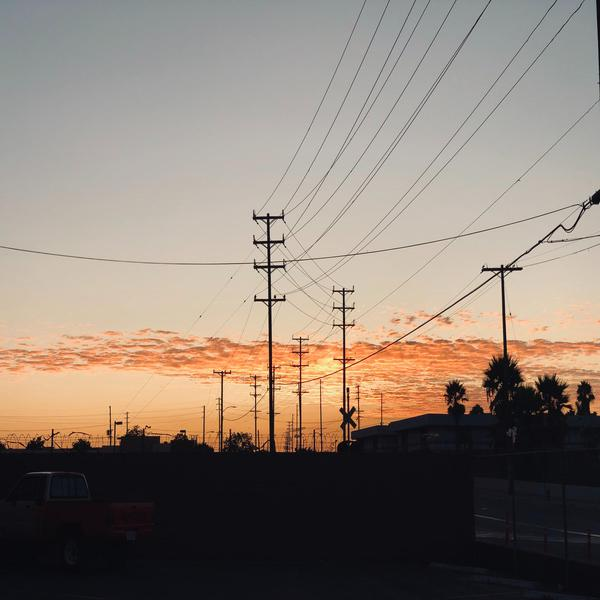utility_pole: (244, 202, 291, 315), (476, 256, 526, 305), (325, 280, 358, 337)
